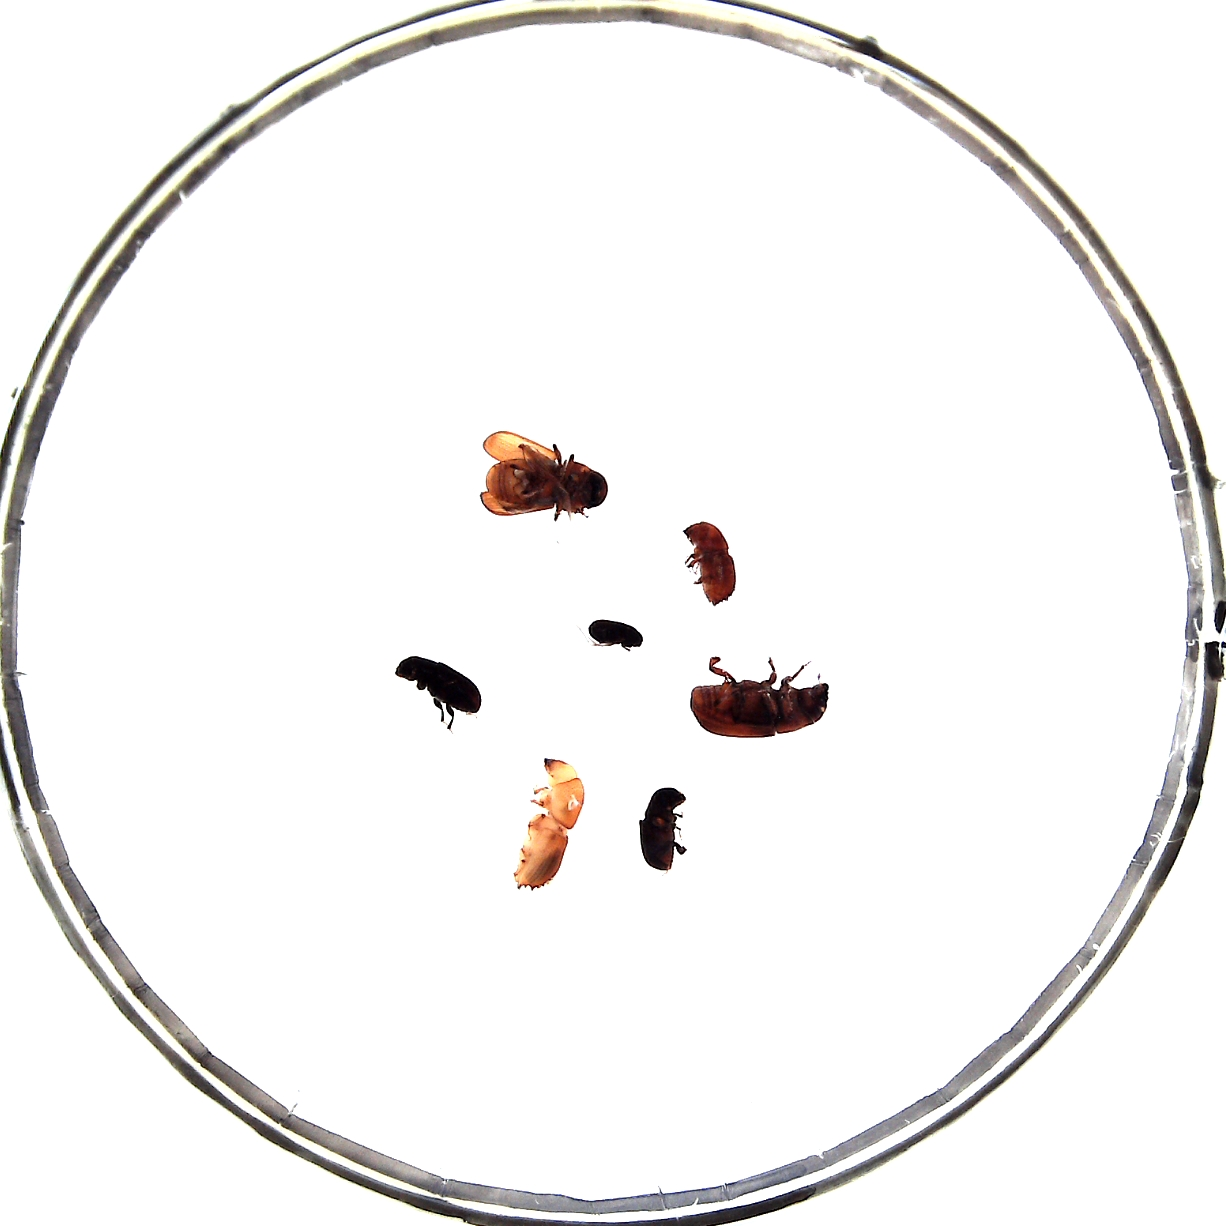Boerner: (512, 758, 584, 890)
Leconte: (478, 430, 609, 516), (689, 679, 829, 738)
armandi: (396, 656, 481, 715), (640, 786, 685, 871)
coleoptera: (588, 619, 643, 649)
linnaeus: (684, 521, 736, 606)
